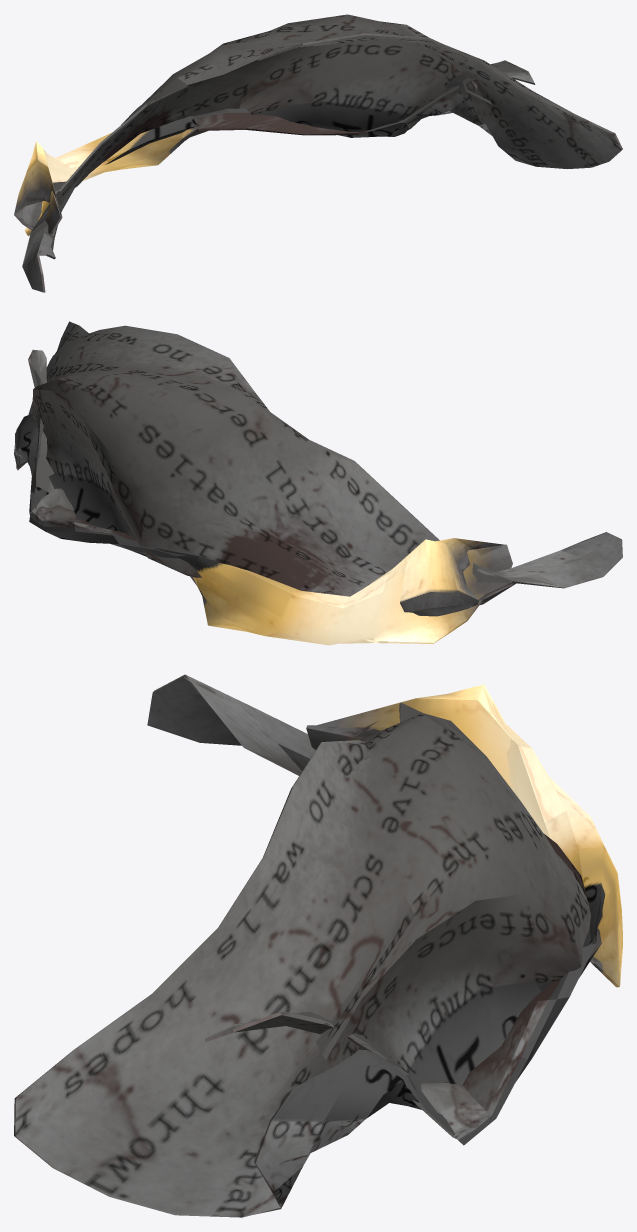
Rendered from SM_Crumpled_Paper_01c.fbx.
The picture shows the model from 3 angles, top to bottom: view 1: azimuth 30°, elevation 25°; view 2: azimuth 150°, elevation 25°; view 3: azimuth 270°, elevation 25°; orthographic projection. The views are drawn at different scales.
Parts seen in each view (by area): view 1: SM_Crumpled_Paper_01c_LOD0; view 2: SM_Crumpled_Paper_01c_LOD0; view 3: SM_Crumpled_Paper_01c_LOD0.
Boxes of the visible parts, x1,y1,x2,y2 form: SM_Crumpled_Paper_01c_LOD0: (14,14,622,292); SM_Crumpled_Paper_01c_LOD0: (14,321,622,645); SM_Crumpled_Paper_01c_LOD0: (14,674,622,1217).
Bounding box in the file's own units: 8.07 × 4.31 × 2.41.
